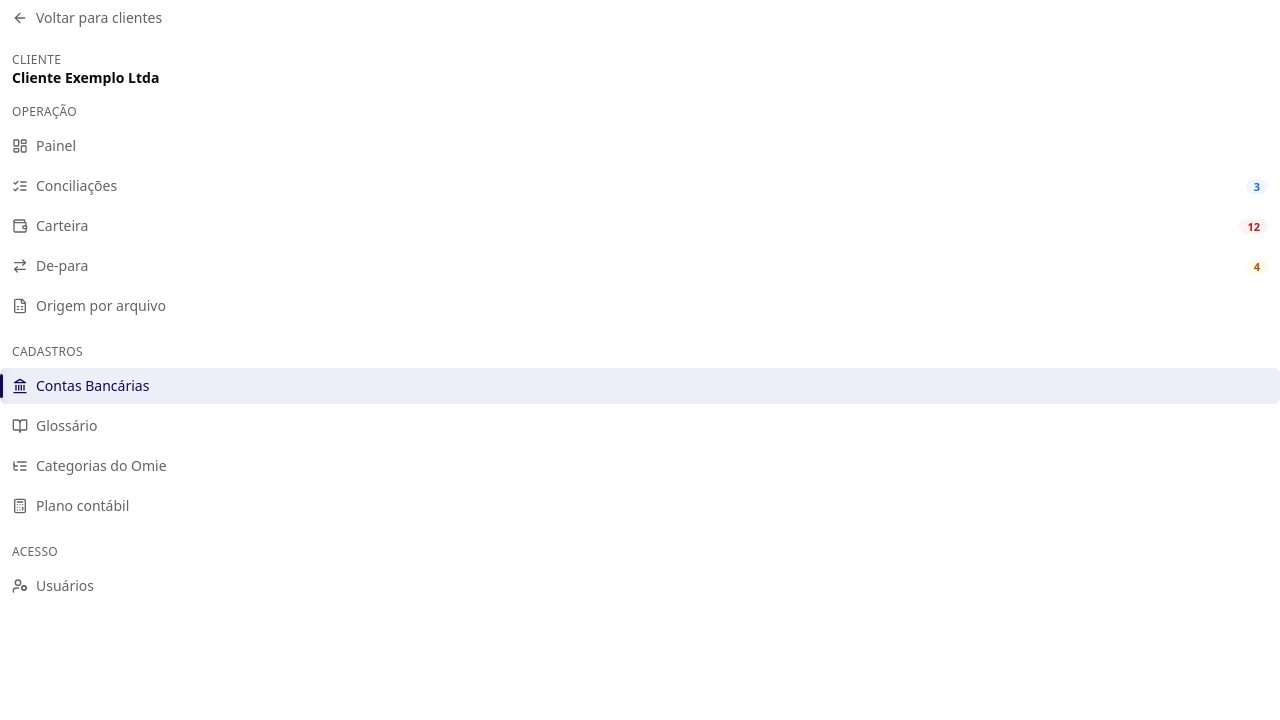
Scenario: SidebarNav — contadores de pendência (86e3k1q3x) › o detalhe abre num tooltip no hover e no foco do link; item sem contador não tem
Hover over the link "Carteira 12" at (62, 226), box [12,216,1268,235]
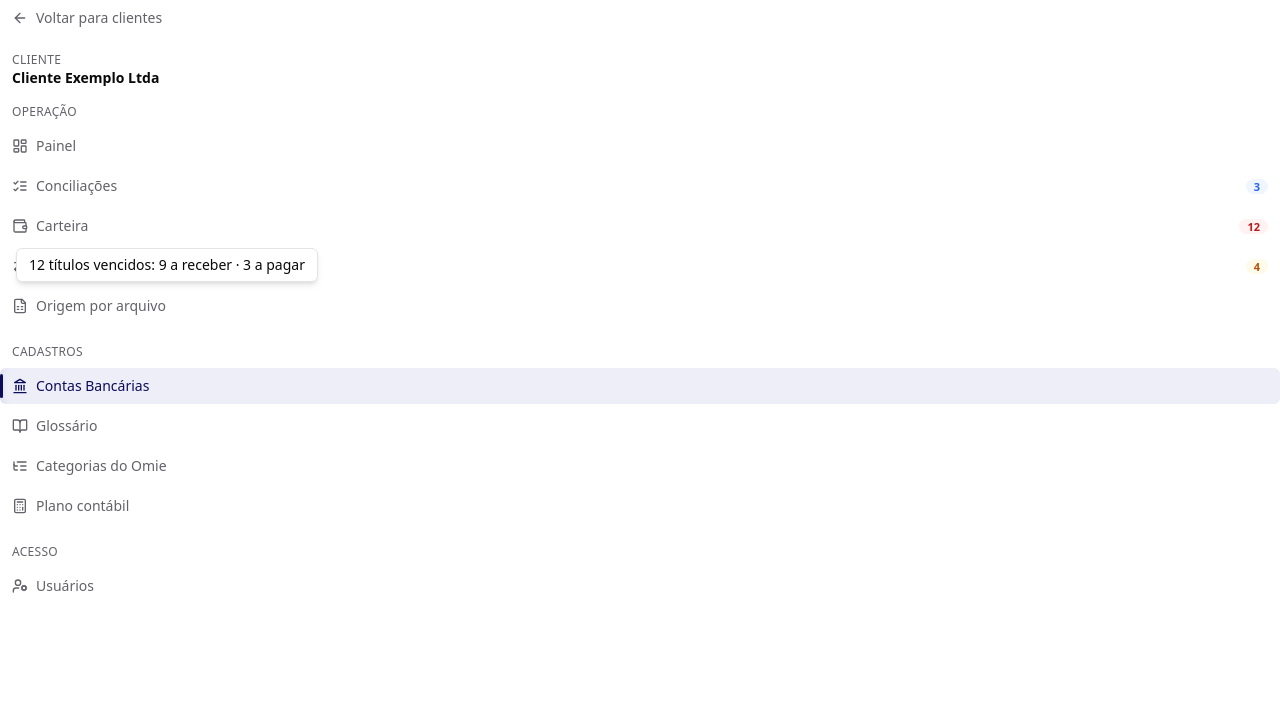
Expected: the tooltip reads "12 títulos vencidos: 9 a receber · 3 a pagar", [29,255,305,274]
Move the pointer off the link "Carteira 12", box [12,216,1268,235]
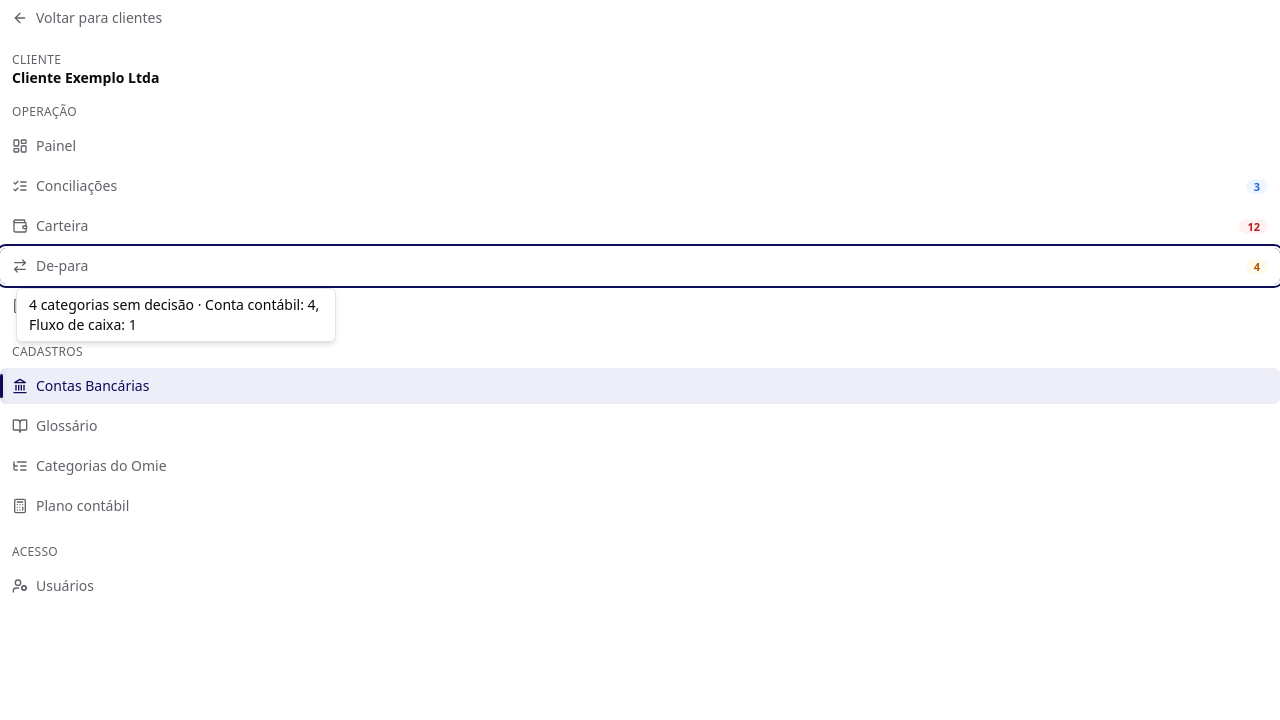
Expected: the tooltip reads "4 categorias sem decisão · Conta contábil: 4, Fluxo de caixa: 1", [29,295,319,334]
